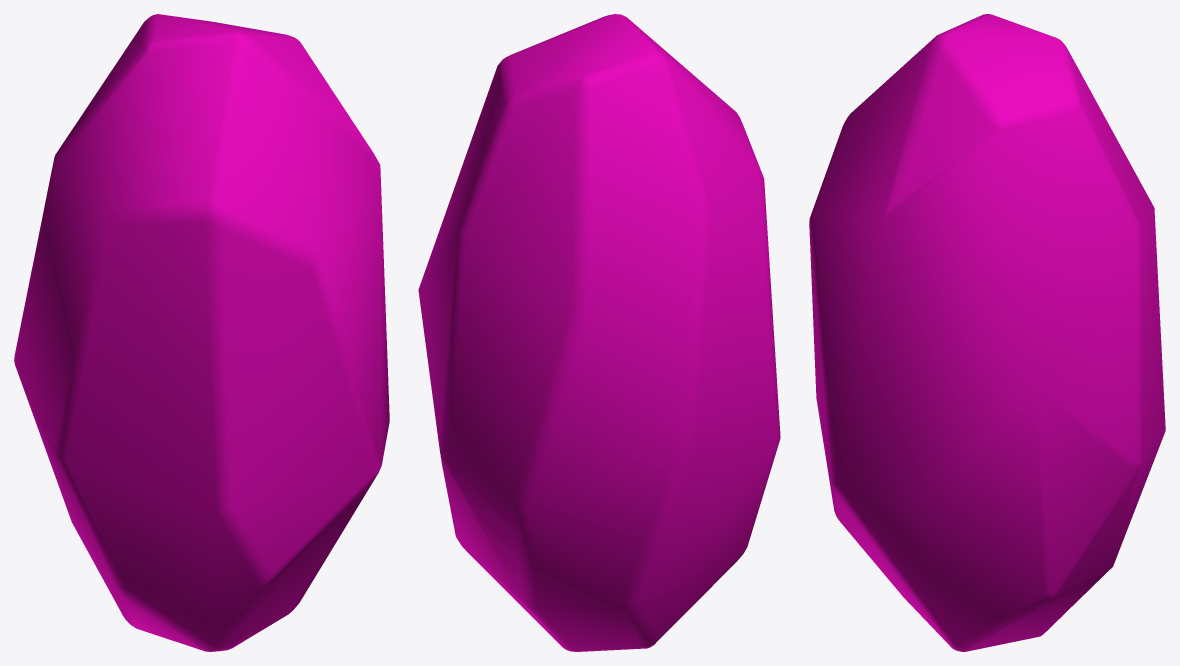
File: gema.fbx
3 views of the same model, side by side, from view 1: azimuth 30°, elevation 25°; view 2: azimuth 150°, elevation 25°; view 3: azimuth 270°, elevation 25° (orthographic).
Parts seen in each view (by area): view 1: Sphere; view 2: Sphere; view 3: Sphere.
Boxes of the visible parts, box(x1,y1,x2,y2) form: Sphere: box(14, 14, 389, 651); Sphere: box(418, 14, 780, 651); Sphere: box(809, 14, 1165, 651).
Bounding box in the file's own units: 413 × 751 × 396.
